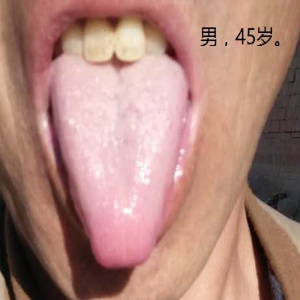st: (45, 65, 187, 270)
